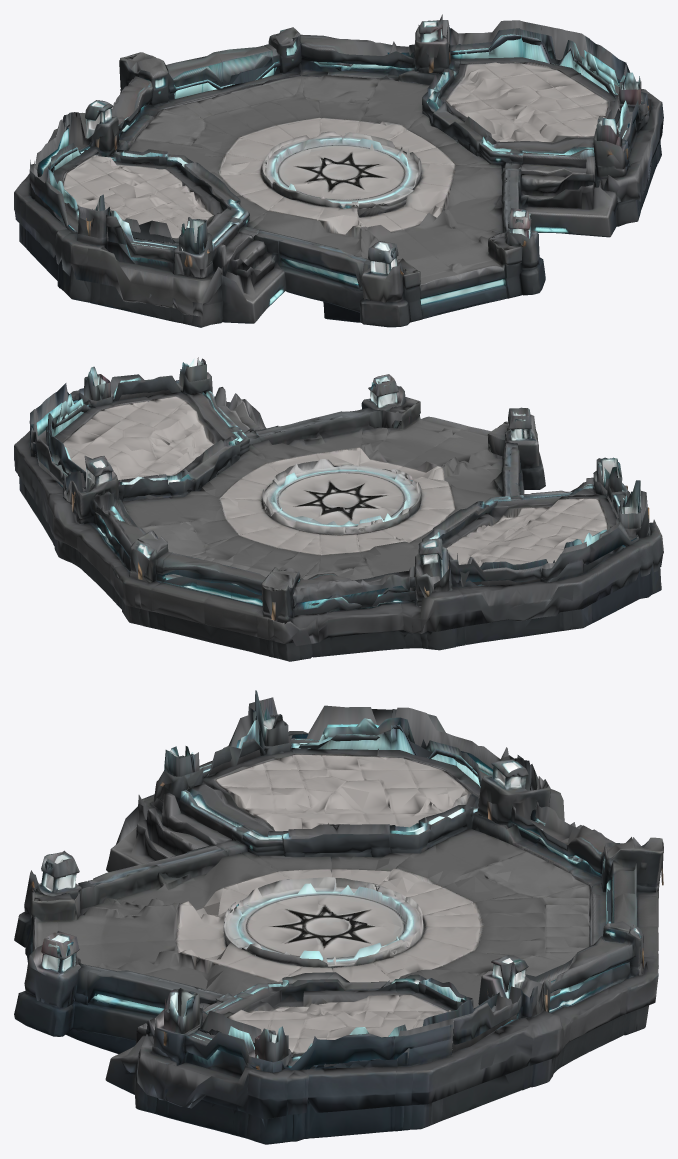
The model's file is HubDeckShell-Tripo-Flattened.fbx.
The picture shows the model from 3 angles, top to bottom: view 1: azimuth 30°, elevation 25°; view 2: azimuth 150°, elevation 25°; view 3: azimuth 270°, elevation 25°; orthographic projection. The views are drawn at different scales.
Visible parts, largest first — view 1: tripo_node_392af453; view 2: tripo_node_392af453; view 3: tripo_node_392af453.
Boxes of the visible parts, <box> form: tripo_node_392af453: <box>14,14,663,327</box>; tripo_node_392af453: <box>14,357,663,661</box>; tripo_node_392af453: <box>14,690,663,1144</box>.
Bounding box in the file's own units: 0.9797 × 0.2152 × 0.771.
1 material, 1 textured.
